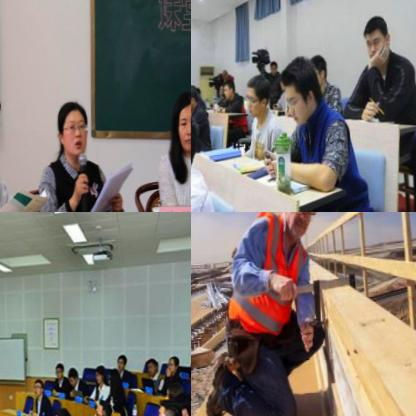head: (283, 56, 322, 123), (56, 98, 91, 162), (361, 14, 391, 64), (170, 89, 191, 150), (244, 74, 271, 118), (307, 53, 329, 88), (191, 112, 201, 173), (172, 389, 191, 416), (166, 382, 184, 410), (154, 397, 179, 416), (92, 397, 113, 416), (221, 77, 234, 101), (166, 354, 179, 376), (67, 364, 79, 385), (49, 406, 74, 416), (107, 370, 120, 389), (33, 378, 45, 398), (93, 364, 105, 384), (145, 356, 158, 374), (191, 81, 198, 113), (114, 352, 126, 370), (218, 64, 231, 80), (268, 57, 278, 74), (54, 360, 63, 378), (216, 78, 224, 96)
helmet: (277, 212, 322, 242)
